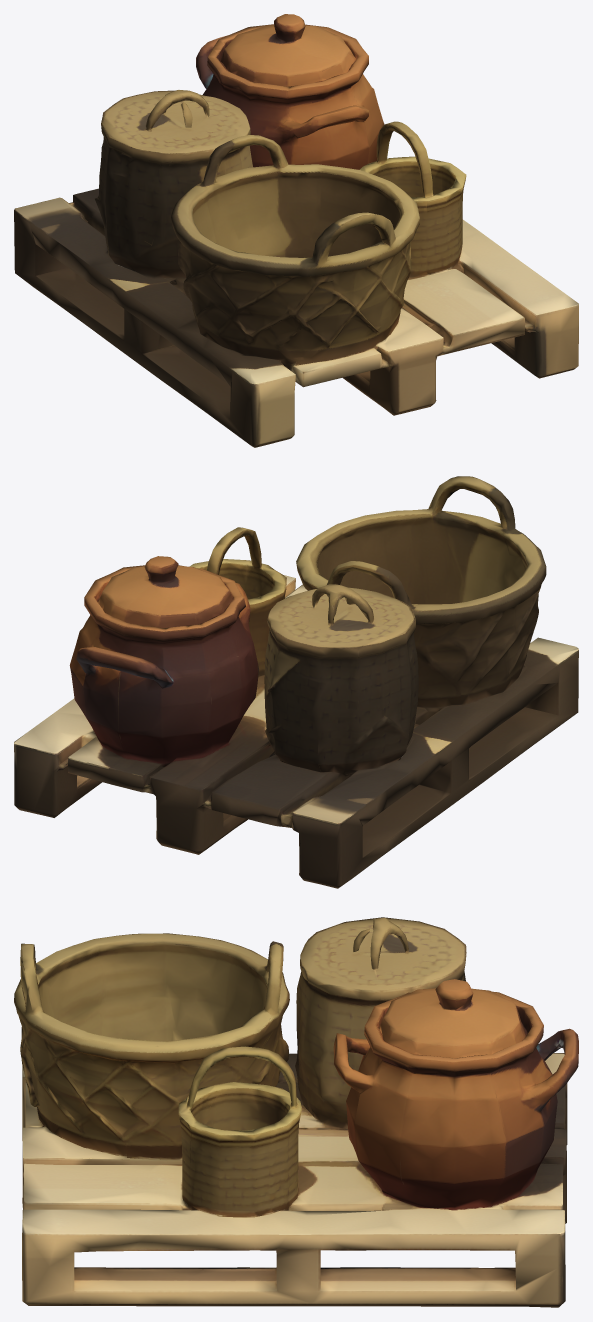
The model's file is storage_baskets.glb.
3 renders of one model, top to bottom at view 1: azimuth 30°, elevation 25°; view 2: azimuth 150°, elevation 25°; view 3: azimuth 270°, elevation 25°, orthographic. The views are drawn at different scales.
Parts seen in each view (by area): view 1: world; view 2: world; view 3: world.
Part boxes in pixels (x1=…): world: x1=14, y1=14, x2=578, y2=447; world: x1=14, y1=476, x2=578, y2=888; world: x1=14, y1=917, x2=578, y2=1307.
Size of the model in its own units: 0.7686 by 0.5269 by 0.9952.
1 material, 1 textured.
